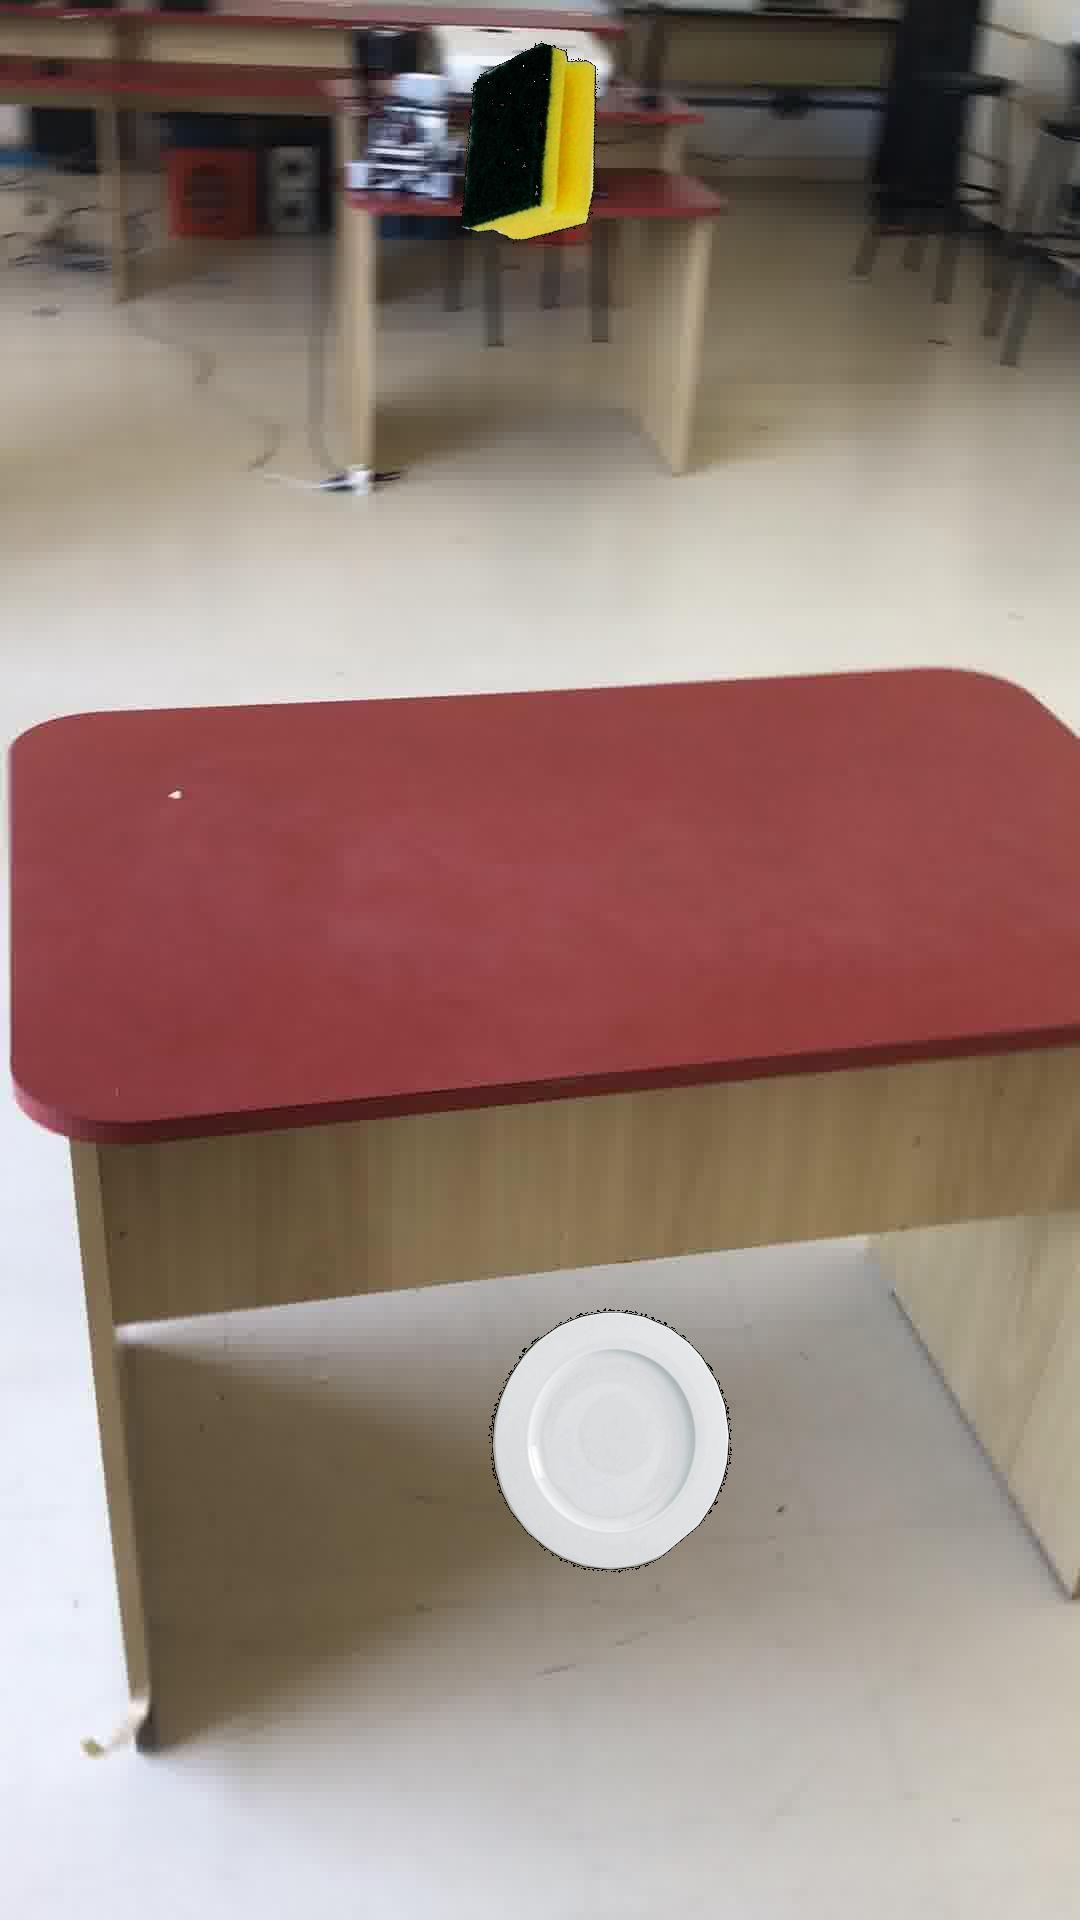plate: (489, 1308, 731, 1569)
sponge: (459, 41, 596, 239)
